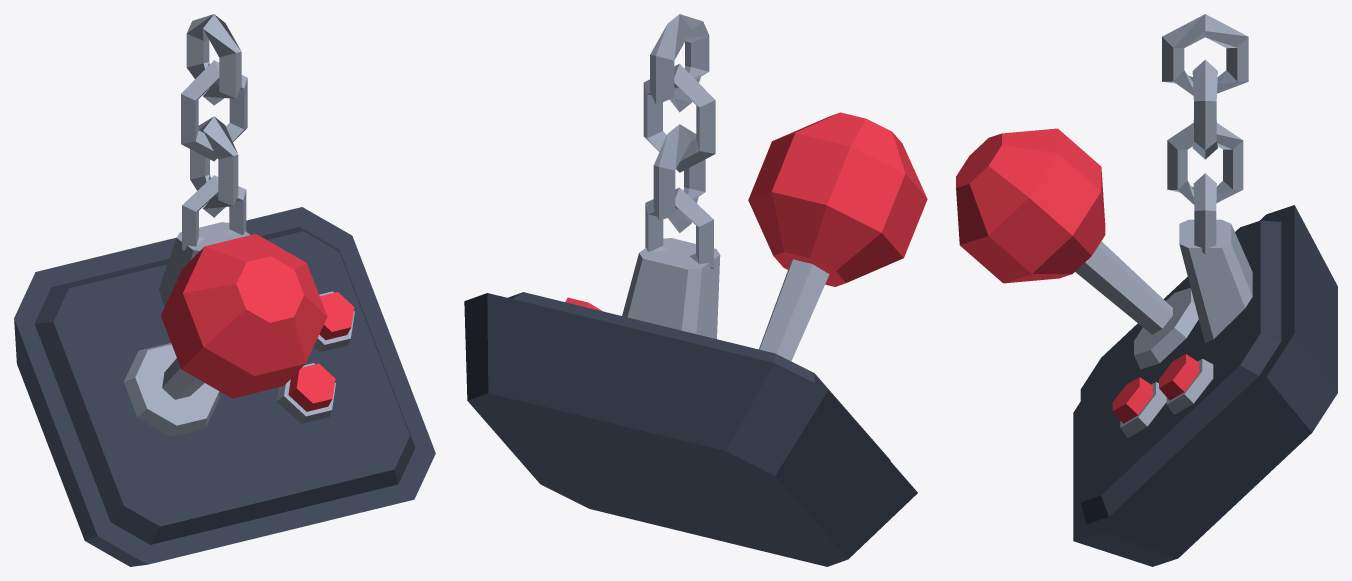
File: Joystick.fbx
3 renders of one model, left to right at view 1: azimuth 30°, elevation 25°; view 2: azimuth 150°, elevation 25°; view 3: azimuth 270°, elevation 25°, orthographic. The views are drawn at different scales.
Parts seen in each view (by area): view 1: Body_Stick_Base, Stick_Stick_Red, Body_Chain_Metal, Chain, Body_Stick_Red, Stick_Chain_Metal; view 2: Body_Stick_Base, Stick_Stick_Red, Chain, Body_Chain_Metal, Stick_Chain_Metal; view 3: Body_Stick_Base, Stick_Stick_Red, Body_Chain_Metal, Chain, Stick_Chain_Metal, Body_Stick_Red.
Boxes of the visible parts, bbox=[...] form: Body_Stick_Base: bbox=[14, 207, 435, 566]; Stick_Stick_Red: bbox=[161, 234, 327, 398]; Body_Chain_Metal: bbox=[124, 175, 354, 436]; Chain: bbox=[181, 14, 247, 217]; Body_Stick_Red: bbox=[288, 292, 354, 411]; Stick_Chain_Metal: bbox=[162, 358, 204, 399]; Body_Stick_Base: bbox=[464, 292, 917, 566]; Stick_Stick_Red: bbox=[748, 112, 927, 286]; Chain: bbox=[643, 14, 715, 232]; Body_Chain_Metal: bbox=[622, 187, 720, 338]; Stick_Chain_Metal: bbox=[759, 259, 829, 361]; Body_Stick_Base: bbox=[1073, 205, 1337, 566]; Stick_Stick_Red: bbox=[956, 128, 1105, 283]; Body_Chain_Metal: bbox=[1120, 173, 1252, 437]; Chain: bbox=[1162, 14, 1248, 204]; Stick_Chain_Metal: bbox=[1075, 241, 1172, 334]; Body_Stick_Red: bbox=[1112, 354, 1199, 423].
Bounding box in the file's own units: 0.208 × 0.2976 × 0.2061.
